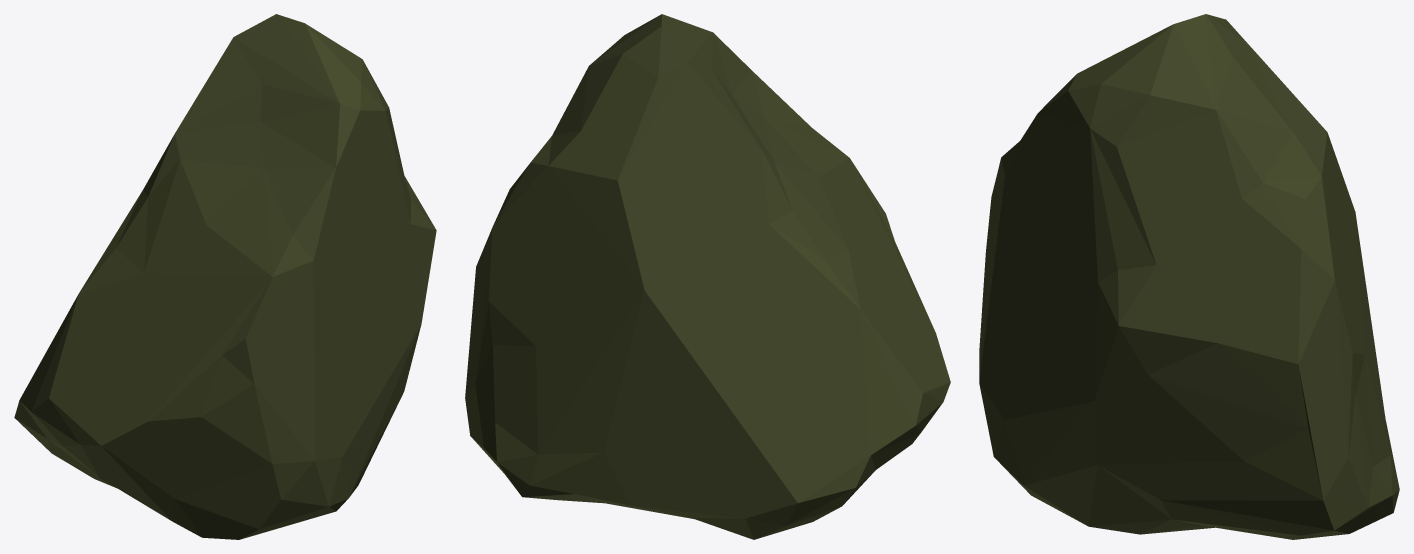
File: SM_small_rock_13.fbx
3 renders of one model, left to right at view 1: azimuth 30°, elevation 25°; view 2: azimuth 150°, elevation 25°; view 3: azimuth 270°, elevation 25°, orthographic. The views are drawn at different scales.
Parts seen in each view (by area): view 1: small_rock_13; view 2: small_rock_13; view 3: small_rock_13.
Part boxes in pixels (<box>): small_rock_13: <box>14,14,436,539</box>; small_rock_13: <box>465,14,950,539</box>; small_rock_13: <box>979,14,1399,539</box>.
Bounding box in the file's own units: 10.28 × 11.11 × 8.54.
